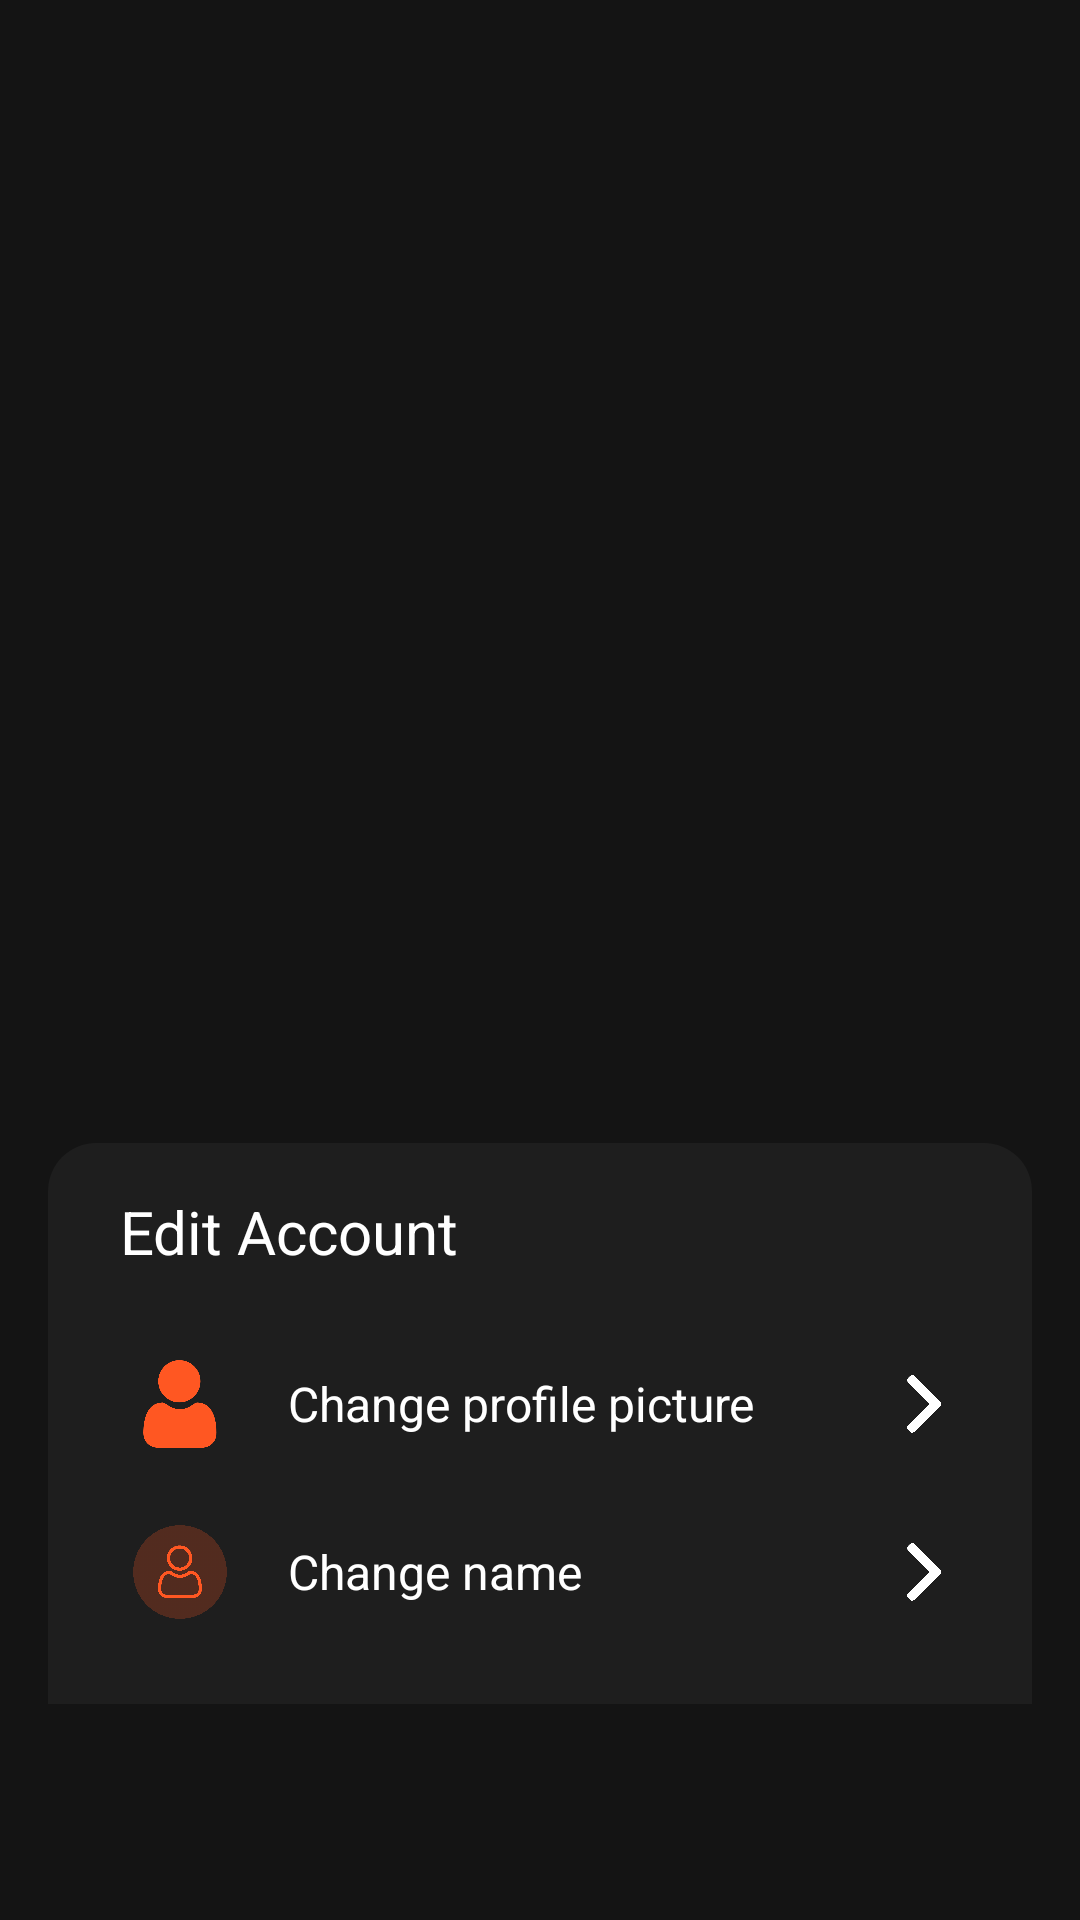

Where icons sit on this 1080×1920 app screen, as {"left": x1, "top": y1, "right": x2, "bottom": y2}:
arrow: {"left": 907, "top": 1375, "right": 941, "bottom": 1433}, {"left": 907, "top": 1543, "right": 941, "bottom": 1601}
